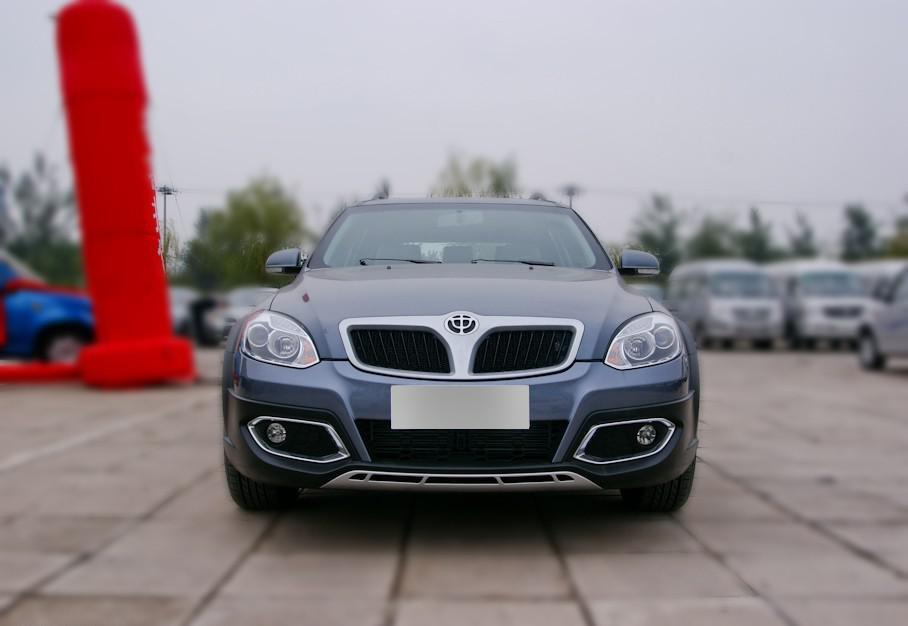Wagon: (223, 199, 700, 512)
